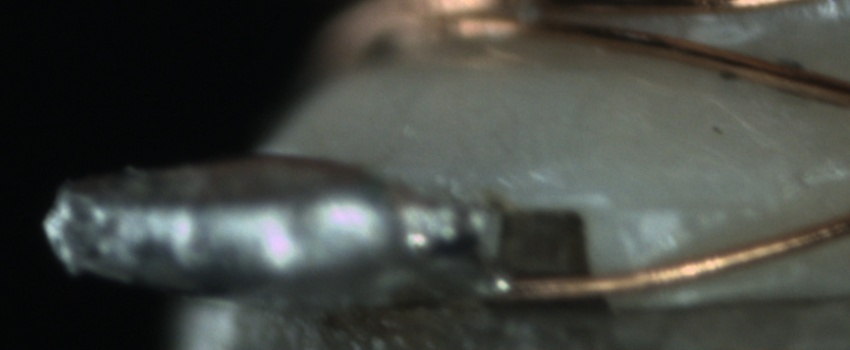DL: (614, 183, 768, 231)
